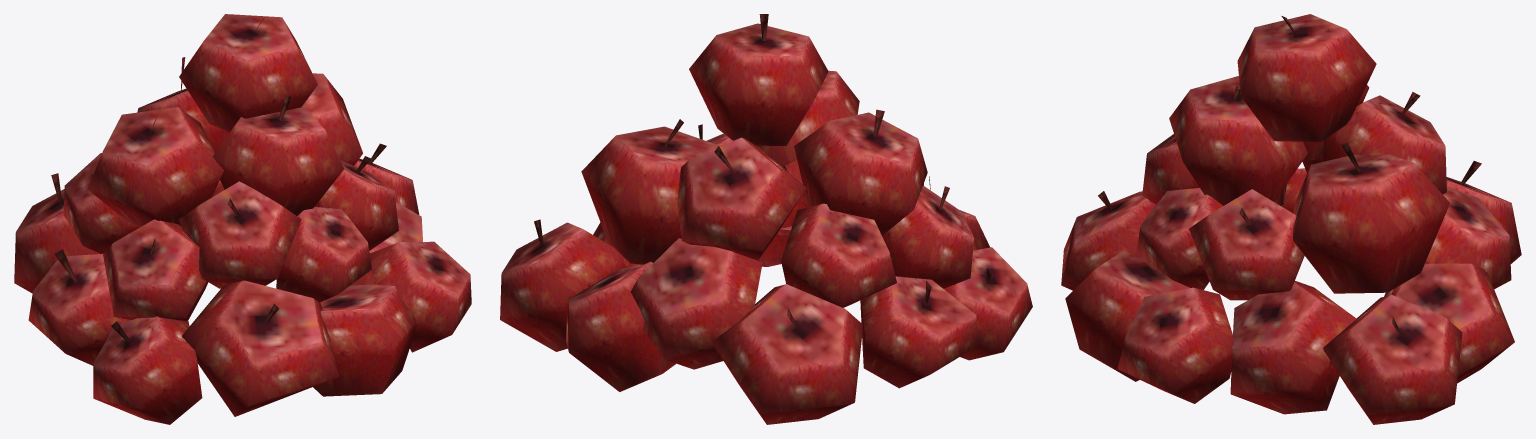
The picture shows the model from 3 angles, left to right: view 1: azimuth 30°, elevation 25°; view 2: azimuth 150°, elevation 25°; view 3: azimuth 270°, elevation 25°; orthographic projection. The views are drawn at different scales.
Visible parts, largest first — view 1: Mesh_0598.rip_noesis_meshnode_0000; view 2: Mesh_0598.rip_noesis_meshnode_0000; view 3: Mesh_0598.rip_noesis_meshnode_0000.
Boxes of the visible parts, x1=… form: Mesh_0598.rip_noesis_meshnode_0000: x1=14, y1=14, x2=471, y2=424; Mesh_0598.rip_noesis_meshnode_0000: x1=500, y1=14, x2=1032, y2=424; Mesh_0598.rip_noesis_meshnode_0000: x1=1061, y1=14, x2=1521, y2=424.
Size of the model in its own units: 0.3773 by 0.2961 by 0.3561.
1 material, 1 textured.
